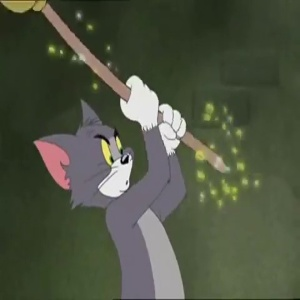Tom: (25, 108, 135, 200)
